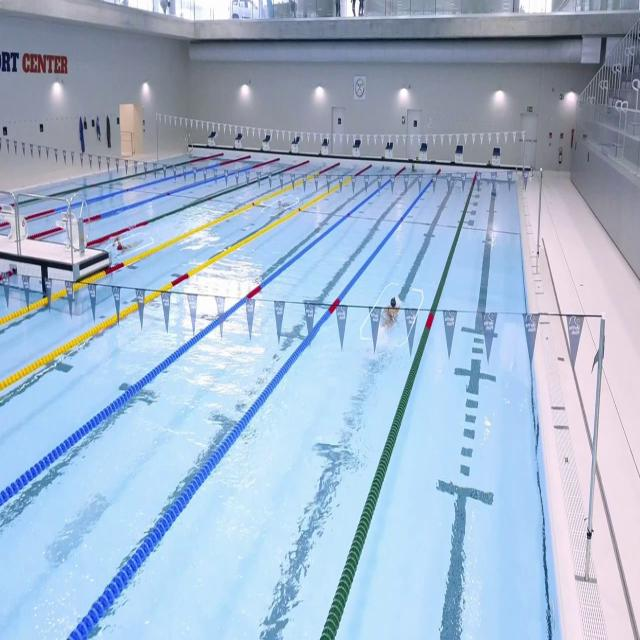Swimming: (112, 236, 144, 259), (380, 298, 400, 334), (277, 199, 294, 211)
